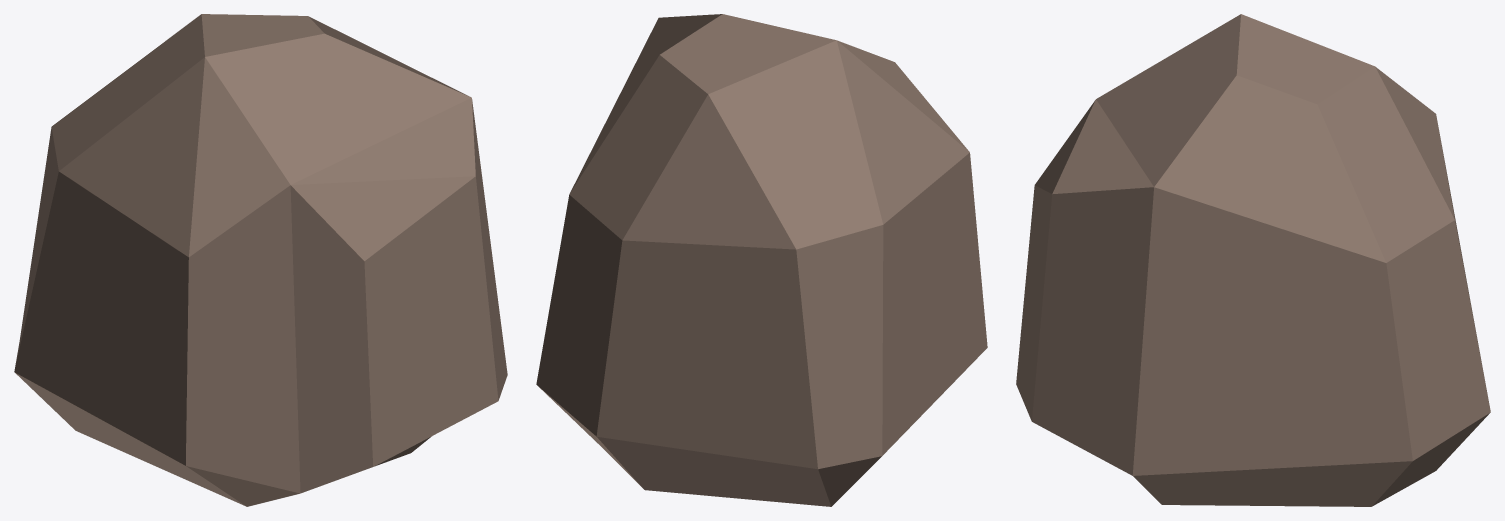
Rendered from TB_Env_Rock3_D.FBX.
The picture shows the model from 3 angles, left to right: view 1: azimuth 30°, elevation 25°; view 2: azimuth 150°, elevation 25°; view 3: azimuth 270°, elevation 25°; orthographic projection.
Visible parts, largest first — view 1: TB_Env_Rock3_D; view 2: TB_Env_Rock3_D; view 3: TB_Env_Rock3_D.
Boxes of the visible parts, x1,y1,x2,y2 form: TB_Env_Rock3_D: [14, 14, 507, 506]; TB_Env_Rock3_D: [536, 14, 987, 506]; TB_Env_Rock3_D: [1016, 14, 1490, 506].
Size of the model in its own units: 1.64 by 1.74 by 1.83.
